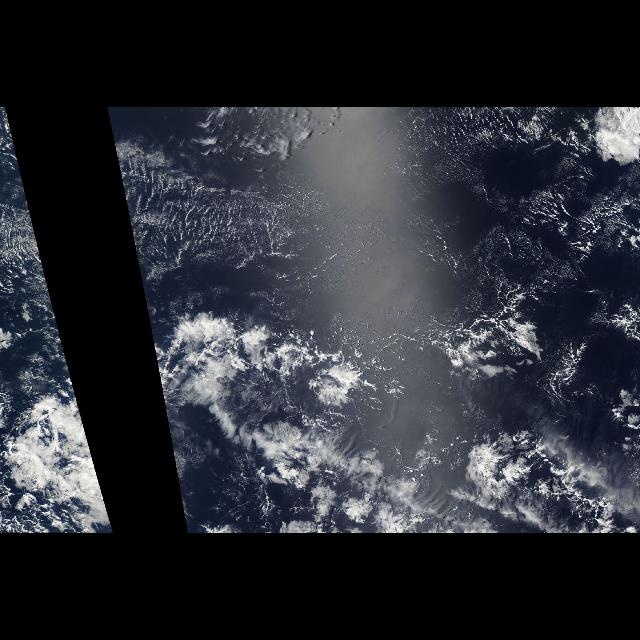Fish: (172, 292, 640, 532)
Gravel: (414, 119, 640, 303), (115, 156, 333, 270)
Sugar: (120, 110, 568, 320), (10, 188, 56, 320)
